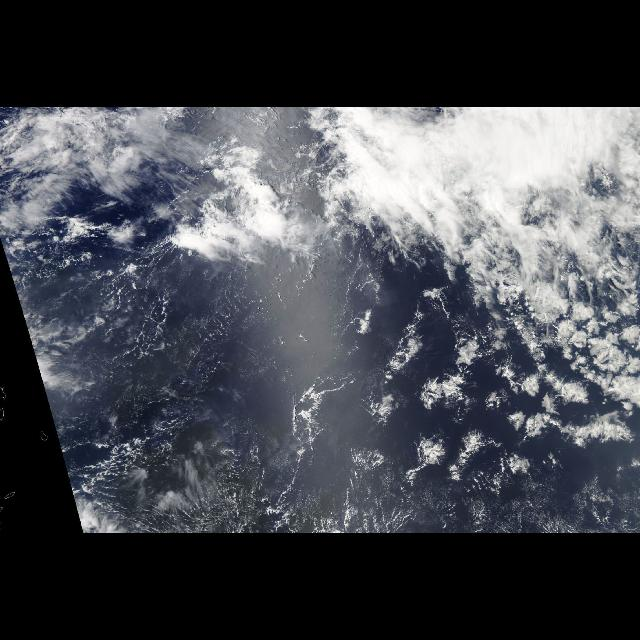Flower: (308, 251, 640, 515)
Sugar: (69, 428, 349, 530)
